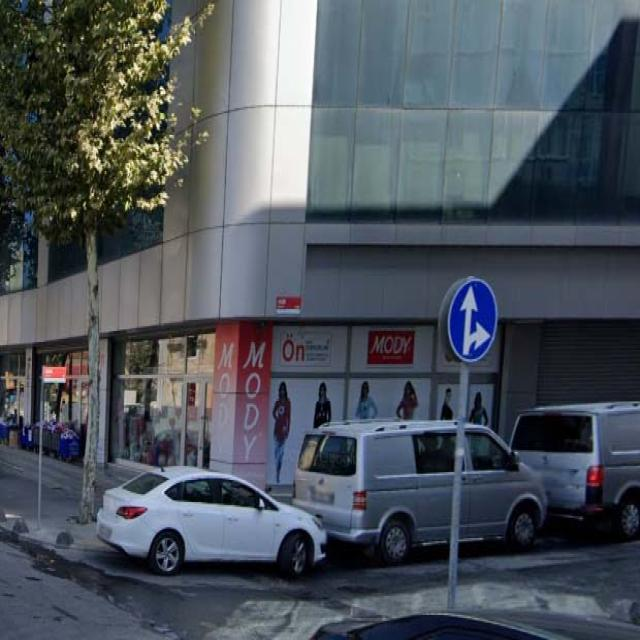ilerisag: (447, 280, 498, 362)
